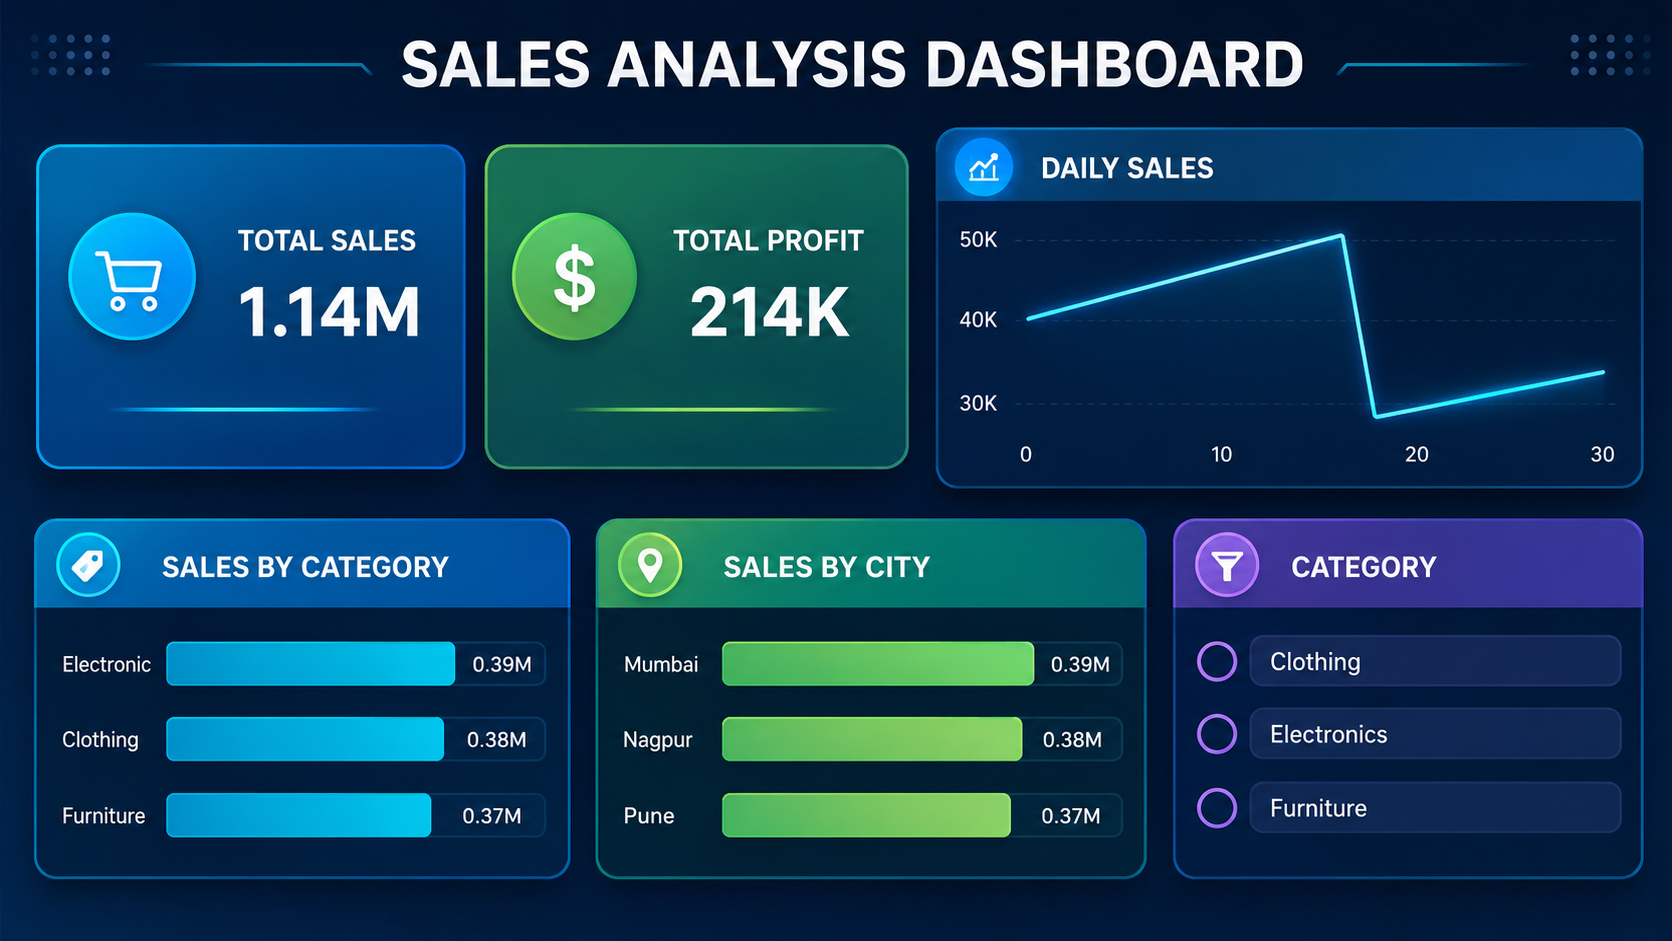

Layout of this report page (visuals, bound fields, positions):
{"tool":"powerbi","page":{"name":"Page 1","canvas":[1280,720],"ordinal":0},"visuals":[{"type":"cardVisual","fields":{"Data":["Sum(sales_100_rows.sales)"]},"box":[41.7,195,298.3,173.3],"z":0},{"type":"cardVisual","fields":{"Data":["Sum(sales_100_rows.profit)"]},"box":[360,195,310,173.3],"z":1000},{"type":"clusteredBarChart","title":"SALES BY CATEGORY","fields":{"Category":["sales_100_rows.category"],"Y":["Sum(sales_100_rows.sales)"]},"box":[28.3,431.7,396.7,235],"z":2000},{"type":"clusteredBarChart","title":"SALES BY CITY","fields":{"Y":["Sum(sales_100_rows.sales)"],"Category":["sales_100_rows.city"]},"box":[496.7,440,413.3,235],"z":3000},{"type":"lineChart","title":"DAILY SALES ","fields":{"Y":["Sum(sales_100_rows.sales)"],"Category":["sales_100_rows.order_date.Variation.Date Hierarchy.Day"]},"box":[736.7,160,528.3,241.7],"z":4000},{"type":"listSlicer","title":"CATEGORY","fields":{"Values":["sales_100_rows.category"]},"box":[960,478.3,280,143.3],"z":5000},{"type":"textbox","box":[0,0,1280,146.7],"z":5001}]}

Visuals, with their boxes in screenshot pixels (x1, y1, x2, y2), scaled from the page's 1280x720 canvas onto the 1672x941 screenshot:
cardVisual - Sum(sales_100_rows.sales): (x1=54, y1=255, x2=444, y2=481)
cardVisual - Sum(sales_100_rows.profit): (x1=470, y1=255, x2=875, y2=481)
"SALES BY CATEGORY" clusteredBarChart: (x1=37, y1=564, x2=555, y2=871)
"SALES BY CITY" clusteredBarChart: (x1=649, y1=575, x2=1189, y2=882)
"DAILY SALES " lineChart: (x1=962, y1=209, x2=1652, y2=525)
"CATEGORY" listSlicer: (x1=1254, y1=625, x2=1620, y2=812)
textbox: (x1=0, y1=0, x2=1671, y2=192)
